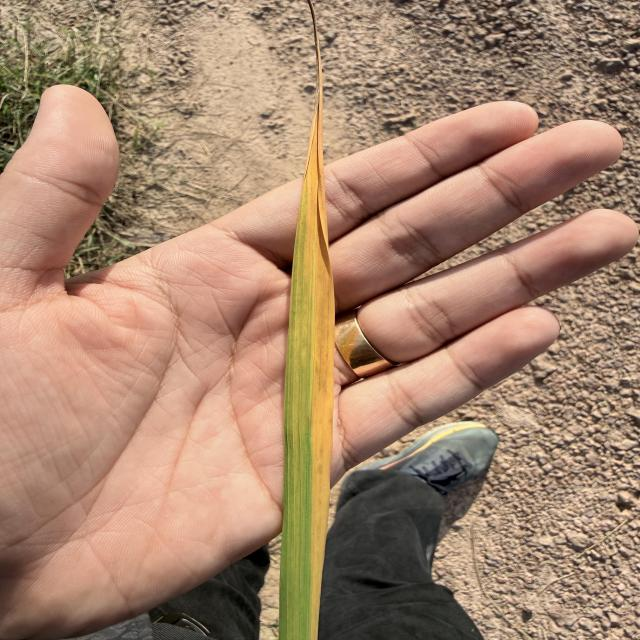Chay bia la: (303, 1, 335, 640)
